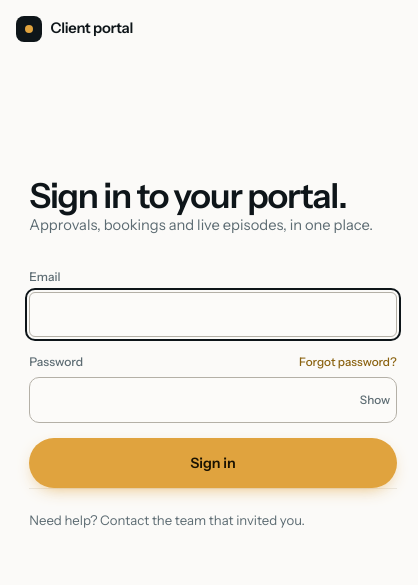
PortalLogin refusals › says the credentials do not match and marks both fields
The image size is (418, 585).
Type "taylor@example.com" into the field labelled "Email" at (213, 315), box 29,292 -> 397,337
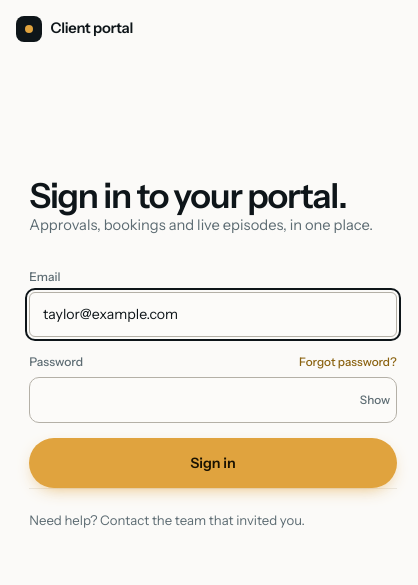
Type "wrong-password" into the password field labelled "Password" at (213, 400), box 29,377 -> 397,423
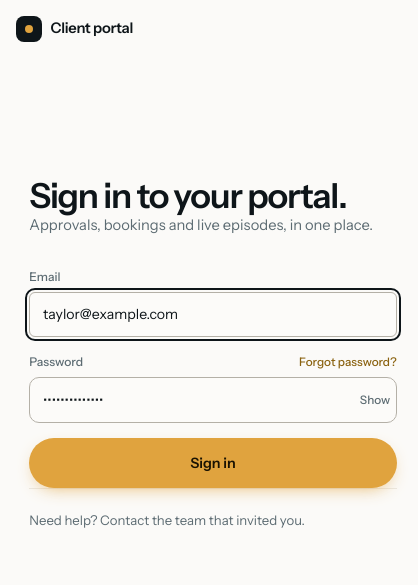
Click the button "Sign in" at (213, 463), box 29,438 -> 397,488
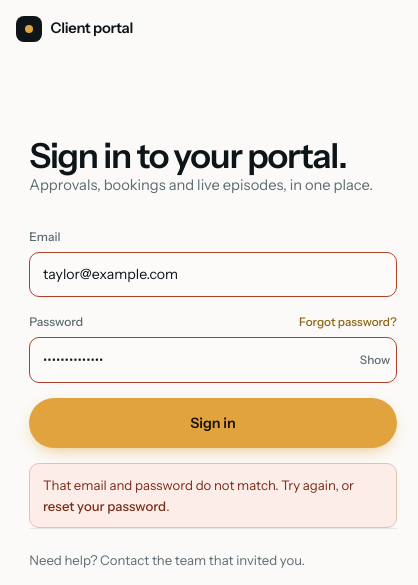
Now the message shows "That email and password do not match.", box 43,477 -> 354,493
